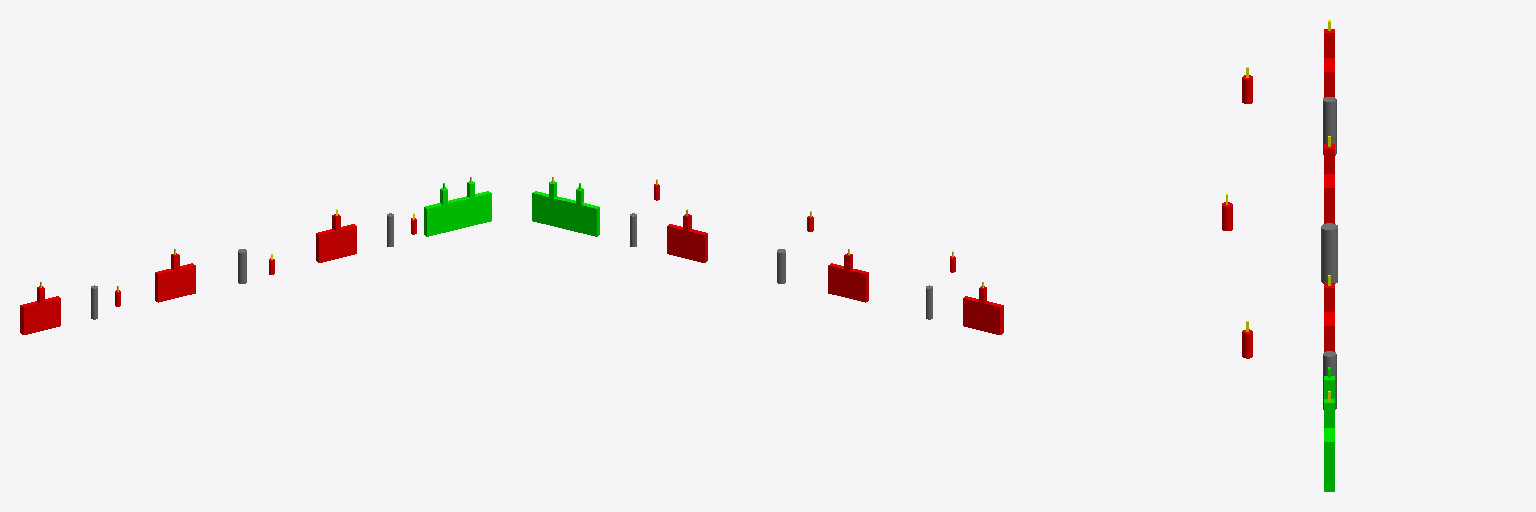
URDF robot description (lockbox_random0):
<?xml version="1.0"?>
<!-- created with Phobos 1.0.1 "Capricious Choutengan" -->
  <robot name="lockbox_random0">

    <link name="base_link">
    </link>

    <link name="goal">
      <visual name="visual_box_0_link_0.001">
        <origin xyz="0 0 0" rpy="0 0 0"/>
        <geometry>
          <box size="1.3976 0.1988 0.998"/>
        </geometry>
        <material name="green_translucent"/>
      </visual>
    </link>

    <link name="link_0_joint_0">
      <visual name="visual_box_0_link_0">
        <origin xyz="0 0 0" rpy="0 0 0"/>
        <geometry>
          <box size="1.399 0.199 0.999"/>
        </geometry>
        <material name="green"/>
      </visual>
      <collision name="collision_box_0_link_0">
        <origin xyz="0 0 0" rpy="0 0 0"/>
        <geometry>
          <box size="1.399 0.199 0.999"/>
        </geometry>
      </collision>
    </link>

    <link name="link_1_joint_0">
      <visual name="visual_mesh_3_link_1">
        <origin xyz="0 0 0" rpy="0 0 0"/>
        <geometry>
          <mesh filename="file://[local-path]/ba/puzzle-generator/puzzles/lockbox_random0/meshes/stl/slot_disc.stl" scale="1.0 1.0 1.0"/>
        </geometry>
        <material name="red"/>
      </visual>
      <collision concave="yes" name="collision_mesh_3_link_1">
        <origin xyz="0 0 0" rpy="0 0 0"/>
        <geometry>
          <mesh filename="file://[local-path]/ba/puzzle-generator/puzzles/lockbox_random0/meshes/stl/slot_disc.001.stl" scale="1.0 1.0 1.0"/>
        </geometry>
      </collision>
    </link>

    <link name="link_2_joint_0">
      <visual name="visual_box_7_link_2">
        <origin xyz="0 0 0" rpy="0 0 0"/>
        <geometry>
          <box size="1.399 0.199 0.999"/>
        </geometry>
        <material name="red"/>
      </visual>
      <collision name="collision_box_7_link_2">
        <origin xyz="0 0 0" rpy="0 0 0"/>
        <geometry>
          <box size="1.399 0.199 0.999"/>
        </geometry>
      </collision>
    </link>

    <link name="link_3_joint_0">
      <visual name="visual_mesh_10_link_3">
        <origin xyz="0 0 0" rpy="0 0 0"/>
        <geometry>
          <mesh filename="file://[local-path]/ba/puzzle-generator/puzzles/lockbox_random0/meshes/stl/slot_disc.002.stl" scale="1.0 1.0 1.0"/>
        </geometry>
        <material name="red"/>
      </visual>
      <collision concave="yes" name="collision_mesh_10_link_3">
        <origin xyz="0 0 0" rpy="0 0 0"/>
        <geometry>
          <mesh filename="file://[local-path]/ba/puzzle-generator/puzzles/lockbox_random0/meshes/stl/slot_disc.003.stl" scale="1.0 1.0 1.0"/>
        </geometry>
      </collision>
    </link>

    <link name="link_4_joint_0">
      <visual name="visual_box_14_link_4">
        <origin xyz="0 0 0" rpy="0 0 0"/>
        <geometry>
          <box size="1.399 0.199 0.999"/>
        </geometry>
        <material name="red"/>
      </visual>
      <collision name="collision_box_14_link_4">
        <origin xyz="0 0 0" rpy="0 0 0"/>
        <geometry>
          <box size="1.399 0.199 0.999"/>
        </geometry>
      </collision>
    </link>

    <link name="link_5_joint_0">
      <visual name="visual_mesh_17_link_5">
        <origin xyz="0 0 0" rpy="0 0 0"/>
        <geometry>
          <mesh filename="file://[local-path]/ba/puzzle-generator/puzzles/lockbox_random0/meshes/stl/slot_disc.004.stl" scale="1.0 1.0 1.0"/>
        </geometry>
        <material name="red"/>
      </visual>
      <collision concave="yes" name="collision_mesh_17_link_5">
        <origin xyz="0 0 0" rpy="0 0 0"/>
        <geometry>
          <mesh filename="file://[local-path]/ba/puzzle-generator/puzzles/lockbox_random0/meshes/stl/slot_disc.005.stl" scale="1.0 1.0 1.0"/>
        </geometry>
      </collision>
    </link>

    <link name="link_6_joint_0">
      <visual name="visual_box_21_link_6">
        <origin xyz="0 0 0" rpy="0 0 0"/>
        <geometry>
          <box size="1.399 0.199 0.999"/>
        </geometry>
        <material name="red"/>
      </visual>
      <collision name="collision_box_21_link_6">
        <origin xyz="0 0 0" rpy="0 0 0"/>
        <geometry>
          <box size="1.399 0.199 0.999"/>
        </geometry>
      </collision>
    </link>

    <link name="link_fixed_11_hinge">
      <visual name="visual_cylinder_fixed_11_hinge">
        <origin xyz="0 0 0" rpy="0 0 0"/>
        <geometry>
          <cylinder radius="0.15575" length="1.099"/>
        </geometry>
        <material name="gray"/>
      </visual>
    </link>

    <link name="link_fixed_12_handle_shaft">
      <visual name="visual_cylinder_fixed_12_handle_shaft">
        <origin xyz="0 0 0" rpy="0 0 0"/>
        <geometry>
          <cylinder radius="0.0995" length="0.499"/>
        </geometry>
        <material name="red"/>
      </visual>
      <collision name="collision_cylinder_fixed_12_handle_shaft">
        <origin xyz="0 0 0" rpy="0 0 0"/>
        <geometry>
          <cylinder radius="0.0995" length="0.499"/>
        </geometry>
      </collision>
    </link>

    <link name="link_fixed_13_handle_knob">
      <visual name="visual_box_fixed_13_handle_knob">
        <origin xyz="0 0 0" rpy="0 0 0"/>
        <geometry>
          <box size="0.049 0.049 0.199"/>
        </geometry>
        <material name="yellow"/>
      </visual>
      <collision name="collision_box_fixed_13_handle_knob">
        <origin xyz="0 0 0" rpy="0 0 0"/>
        <geometry>
          <box size="0.049 0.049 0.199"/>
        </geometry>
      </collision>
    </link>

    <link name="link_fixed_15_handle_shaft">
      <visual name="visual_box_fixed_15_handle_shaft">
        <origin xyz="0 0 0" rpy="0 0 0"/>
        <geometry>
          <box size="0.199 0.199 0.499"/>
        </geometry>
        <material name="red"/>
      </visual>
      <collision name="collision_box_fixed_15_handle_shaft">
        <origin xyz="0 0 0" rpy="0 0 0"/>
        <geometry>
          <box size="0.199 0.199 0.499"/>
        </geometry>
      </collision>
    </link>

    <link name="link_fixed_16_handle_knob">
      <visual name="visual_box_fixed_16_handle_knob">
        <origin xyz="0 0 0" rpy="0 0 0"/>
        <geometry>
          <box size="0.049 0.049 0.199"/>
        </geometry>
        <material name="yellow"/>
      </visual>
      <collision name="collision_box_fixed_16_handle_knob">
        <origin xyz="0 0 0" rpy="0 0 0"/>
        <geometry>
          <box size="0.049 0.049 0.199"/>
        </geometry>
      </collision>
    </link>

    <link name="link_fixed_18_hinge">
      <visual name="visual_cylinder_fixed_18_hinge">
        <origin xyz="0 0 0" rpy="0 0 0"/>
        <geometry>
          <cylinder radius="0.1245" length="1.099"/>
        </geometry>
        <material name="gray"/>
      </visual>
    </link>

    <link name="link_fixed_19_handle_shaft">
      <visual name="visual_cylinder_fixed_19_handle_shaft">
        <origin xyz="0 0 0" rpy="0 0 0"/>
        <geometry>
          <cylinder radius="0.0995" length="0.499"/>
        </geometry>
        <material name="red"/>
      </visual>
      <collision name="collision_cylinder_fixed_19_handle_shaft">
        <origin xyz="0 0 0" rpy="0 0 0"/>
        <geometry>
          <cylinder radius="0.0995" length="0.499"/>
        </geometry>
      </collision>
    </link>

    <link name="link_fixed_1_handle_shaft">
      <visual name="visual_box_fixed_1_handle_shaft">
        <origin xyz="0 0 0" rpy="0 0 0"/>
        <geometry>
          <box size="0.199 0.199 0.499"/>
        </geometry>
        <material name="green"/>
      </visual>
      <collision name="collision_box_fixed_1_handle_shaft">
        <origin xyz="0 0 0" rpy="0 0 0"/>
        <geometry>
          <box size="0.199 0.199 0.499"/>
        </geometry>
      </collision>
    </link>

    <link name="link_fixed_1_handle_shaft.001">
      <visual name="visual_box_fixed_1_handle_shaft.001">
        <origin xyz="0 0 0" rpy="0 0 0"/>
        <geometry>
          <box size="0.1988 0.1988 0.4985"/>
        </geometry>
        <material name="green_translucent"/>
      </visual>
    </link>

    <link name="link_fixed_20_handle_knob">
      <visual name="visual_box_fixed_20_handle_knob">
        <origin xyz="0 0 0" rpy="0 0 0"/>
        <geometry>
          <box size="0.049 0.049 0.199"/>
        </geometry>
        <material name="yellow"/>
      </visual>
      <collision name="collision_box_fixed_20_handle_knob">
        <origin xyz="0 0 0" rpy="0 0 0"/>
        <geometry>
          <box size="0.049 0.049 0.199"/>
        </geometry>
      </collision>
    </link>

    <link name="link_fixed_22_handle_shaft">
      <visual name="visual_box_fixed_22_handle_shaft">
        <origin xyz="0 0 0" rpy="0 0 0"/>
        <geometry>
          <box size="0.199 0.199 0.499"/>
        </geometry>
        <material name="red"/>
      </visual>
      <collision name="collision_box_fixed_22_handle_shaft">
        <origin xyz="0 0 0" rpy="0 0 0"/>
        <geometry>
          <box size="0.199 0.199 0.499"/>
        </geometry>
      </collision>
    </link>

    <link name="link_fixed_23_handle_knob">
      <visual name="visual_box_fixed_23_handle_knob">
        <origin xyz="0 0 0" rpy="0 0 0"/>
        <geometry>
          <box size="0.049 0.049 0.199"/>
        </geometry>
        <material name="yellow"/>
      </visual>
      <collision name="collision_box_fixed_23_handle_knob">
        <origin xyz="0 0 0" rpy="0 0 0"/>
        <geometry>
          <box size="0.049 0.049 0.199"/>
        </geometry>
      </collision>
    </link>

    <link name="link_fixed_2_handle_knob">
      <visual name="visual_box_fixed_2_handle_knob">
        <origin xyz="0 0 0" rpy="0 0 0"/>
        <geometry>
          <box size="0.049 0.049 0.199"/>
        </geometry>
        <material name="yellow"/>
      </visual>
      <collision name="collision_box_fixed_2_handle_knob">
        <origin xyz="0 0 0" rpy="0 0 0"/>
        <geometry>
          <box size="0.049 0.049 0.199"/>
        </geometry>
      </collision>
    </link>

    <link name="link_fixed_2_handle_knob.001">
      <visual name="visual_box_fixed_2_handle_knob.001">
        <origin xyz="0 0 0" rpy="0 0 0"/>
        <geometry>
          <box size="0.04895 0.04895 0.1988"/>
        </geometry>
        <material name="green_translucent"/>
      </visual>
    </link>

    <link name="link_fixed_4_hinge">
      <visual name="visual_cylinder_fixed_4_hinge">
        <origin xyz="0 0 0" rpy="0 0 0"/>
        <geometry>
          <cylinder radius="0.1245" length="1.099"/>
        </geometry>
        <material name="gray"/>
      </visual>
    </link>

    <link name="link_fixed_5_handle_shaft">
      <visual name="visual_cylinder_fixed_5_handle_shaft">
        <origin xyz="0 0 0" rpy="0 0 0"/>
        <geometry>
          <cylinder radius="0.0995" length="0.499"/>
        </geometry>
        <material name="red"/>
      </visual>
      <collision name="collision_cylinder_fixed_5_handle_shaft">
        <origin xyz="0 0 0" rpy="0 0 0"/>
        <geometry>
          <cylinder radius="0.0995" length="0.499"/>
        </geometry>
      </collision>
    </link>

    <link name="link_fixed_6_handle_knob">
      <visual name="visual_box_fixed_6_handle_knob">
        <origin xyz="0 0 0" rpy="0 0 0"/>
        <geometry>
          <box size="0.049 0.049 0.199"/>
        </geometry>
        <material name="yellow"/>
      </visual>
      <collision name="collision_box_fixed_6_handle_knob">
        <origin xyz="0 0 0" rpy="0 0 0"/>
        <geometry>
          <box size="0.049 0.049 0.199"/>
        </geometry>
      </collision>
    </link>

    <link name="link_fixed_8_handle_shaft">
      <visual name="visual_box_fixed_8_handle_shaft">
        <origin xyz="0 0 0" rpy="0 0 0"/>
        <geometry>
          <box size="0.199 0.199 0.499"/>
        </geometry>
        <material name="red"/>
      </visual>
      <collision name="collision_box_fixed_8_handle_shaft">
        <origin xyz="0 0 0" rpy="0 0 0"/>
        <geometry>
          <box size="0.199 0.199 0.499"/>
        </geometry>
      </collision>
    </link>

    <link name="link_fixed_9_handle_knob">
      <visual name="visual_box_fixed_9_handle_knob">
        <origin xyz="0 0 0" rpy="0 0 0"/>
        <geometry>
          <box size="0.049 0.049 0.199"/>
        </geometry>
        <material name="yellow"/>
      </visual>
      <collision name="collision_box_fixed_9_handle_knob">
        <origin xyz="0 0 0" rpy="0 0 0"/>
        <geometry>
          <box size="0.049 0.049 0.199"/>
        </geometry>
      </collision>
    </link>

    <joint name="goal" type="fixed">
      <origin xyz="-1.0 0 0.5" rpy="0 0 3.14159"/>
      <parent link="base_link"/>
      <child link="goal"/>
      <limit effort="0" velocity="0"/>
    </joint>

    <joint name="link_0_joint_0" type="prismatic">
      <origin xyz="0 0 0.5" rpy="0 0 3.14159"/>
      <parent link="base_link"/>
      <child link="link_0_joint_0"/>
      <axis xyz="1.0 0 0"/>
      <limit lower="0" upper="1.0" effort="0" velocity="0"/>
    </joint>

    <joint name="link_1_joint_0" type="revolute">
      <origin xyz="-3.0 0 0.5" rpy="0 0 3.14159"/>
      <parent link="base_link"/>
      <child link="link_1_joint_0"/>
      <axis xyz="0 0 1.0"/>
      <limit lower="-3.14159" upper="3.14159" effort="0" velocity="0"/>
    </joint>

    <joint name="link_2_joint_0" type="prismatic">
      <origin xyz="-5.0 0 0.5" rpy="0 0 3.14159"/>
      <parent link="base_link"/>
      <child link="link_2_joint_0"/>
      <axis xyz="1.0 0 0"/>
      <limit lower="0" upper="1.0" effort="0" velocity="0"/>
    </joint>

    <joint name="link_3_joint_0" type="revolute">
      <origin xyz="-8.5 0 0.5" rpy="0 0 3.14159"/>
      <parent link="base_link"/>
      <child link="link_3_joint_0"/>
      <axis xyz="0 0 1.0"/>
      <limit lower="-3.14159" upper="3.14159" effort="0" velocity="0"/>
    </joint>

    <joint name="link_4_joint_0" type="prismatic">
      <origin xyz="-11.0 0 0.5" rpy="0 0 3.14159"/>
      <parent link="base_link"/>
      <child link="link_4_joint_0"/>
      <axis xyz="1.0 0 0"/>
      <limit lower="0" upper="1.0" effort="0" velocity="0"/>
    </joint>

    <joint name="link_5_joint_0" type="revolute">
      <origin xyz="-14.0 0 0.5" rpy="0 0 3.14159"/>
      <parent link="base_link"/>
      <child link="link_5_joint_0"/>
      <axis xyz="0 0 1.0"/>
      <limit lower="-3.14159" upper="3.14159" effort="0" velocity="0"/>
    </joint>

    <joint name="link_6_joint_0" type="prismatic">
      <origin xyz="-16.0 0 0.5" rpy="0 0 3.14159"/>
      <parent link="base_link"/>
      <child link="link_6_joint_0"/>
      <axis xyz="1.0 0 0"/>
      <limit lower="0" upper="1.0" effort="0" velocity="0"/>
    </joint>

    <joint name="link_fixed_11_hinge" type="fixed">
      <origin xyz="0 0 0" rpy="0 0 0"/>
      <parent link="link_3_joint_0"/>
      <child link="link_fixed_11_hinge"/>
    </joint>

    <joint name="link_fixed_12_handle_shaft" type="fixed">
      <origin xyz="0 1.875 0.75" rpy="0 0 0"/>
      <parent link="link_3_joint_0"/>
      <child link="link_fixed_12_handle_shaft"/>
    </joint>

    <joint name="link_fixed_13_handle_knob" type="fixed">
      <origin xyz="0 0 0.35" rpy="0 0 0"/>
      <parent link="link_fixed_12_handle_shaft"/>
      <child link="link_fixed_13_handle_knob"/>
    </joint>

    <joint name="link_fixed_15_handle_shaft" type="fixed">
      <origin xyz="0 0 0.75" rpy="0 0 0"/>
      <parent link="link_4_joint_0"/>
      <child link="link_fixed_15_handle_shaft"/>
    </joint>

    <joint name="link_fixed_16_handle_knob" type="fixed">
      <origin xyz="0 0 0.35" rpy="0 0 0"/>
      <parent link="link_fixed_15_handle_shaft"/>
      <child link="link_fixed_16_handle_knob"/>
    </joint>

    <joint name="link_fixed_18_hinge" type="fixed">
      <origin xyz="0 0 0" rpy="0 0 0"/>
      <parent link="link_5_joint_0"/>
      <child link="link_fixed_18_hinge"/>
    </joint>

    <joint name="link_fixed_19_handle_shaft" type="fixed">
      <origin xyz="0 1.5 0.75" rpy="0 0 0"/>
      <parent link="link_5_joint_0"/>
      <child link="link_fixed_19_handle_shaft"/>
    </joint>

    <joint name="link_fixed_1_handle_shaft" type="fixed">
      <origin xyz="0 0 0.75" rpy="0 0 0"/>
      <parent link="link_0_joint_0"/>
      <child link="link_fixed_1_handle_shaft"/>
    </joint>

    <joint name="link_fixed_1_handle_shaft.001" type="fixed">
      <origin xyz="0 0 0.74925" rpy="0 0 0"/>
      <parent link="goal"/>
      <child link="link_fixed_1_handle_shaft.001"/>
    </joint>

    <joint name="link_fixed_20_handle_knob" type="fixed">
      <origin xyz="0 0 0.35" rpy="0 0 0"/>
      <parent link="link_fixed_19_handle_shaft"/>
      <child link="link_fixed_20_handle_knob"/>
    </joint>

    <joint name="link_fixed_22_handle_shaft" type="fixed">
      <origin xyz="0 0 0.75" rpy="0 0 0"/>
      <parent link="link_6_joint_0"/>
      <child link="link_fixed_22_handle_shaft"/>
    </joint>

    <joint name="link_fixed_23_handle_knob" type="fixed">
      <origin xyz="0 0 0.35" rpy="0 0 0"/>
      <parent link="link_fixed_22_handle_shaft"/>
      <child link="link_fixed_23_handle_knob"/>
    </joint>

    <joint name="link_fixed_2_handle_knob" type="fixed">
      <origin xyz="0 0 0.35" rpy="0 0 0"/>
      <parent link="link_fixed_1_handle_shaft"/>
      <child link="link_fixed_2_handle_knob"/>
    </joint>

    <joint name="link_fixed_2_handle_knob.001" type="fixed">
      <origin xyz="0 0 0.34965" rpy="0 0 0"/>
      <parent link="link_fixed_1_handle_shaft.001"/>
      <child link="link_fixed_2_handle_knob.001"/>
    </joint>

    <joint name="link_fixed_4_hinge" type="fixed">
      <origin xyz="0 0 0" rpy="0 0 0"/>
      <parent link="link_1_joint_0"/>
      <child link="link_fixed_4_hinge"/>
    </joint>

    <joint name="link_fixed_5_handle_shaft" type="fixed">
      <origin xyz="0 1.5 0.75" rpy="0 0 0"/>
      <parent link="link_1_joint_0"/>
      <child link="link_fixed_5_handle_shaft"/>
    </joint>

    <joint name="link_fixed_6_handle_knob" type="fixed">
      <origin xyz="0 0 0.35" rpy="0 0 0"/>
      <parent link="link_fixed_5_handle_shaft"/>
      <child link="link_fixed_6_handle_knob"/>
    </joint>

    <joint name="link_fixed_8_handle_shaft" type="fixed">
      <origin xyz="0 0 0.75" rpy="0 0 0"/>
      <parent link="link_2_joint_0"/>
      <child link="link_fixed_8_handle_shaft"/>
    </joint>

    <joint name="link_fixed_9_handle_knob" type="fixed">
      <origin xyz="0 0 0.35" rpy="0 0 0"/>
      <parent link="link_fixed_8_handle_shaft"/>
      <child link="link_fixed_9_handle_knob"/>
    </joint>

    <material name="gray">
      <color rgba="0.5 0.5 0.5 1.0"/>
    </material>

    <material name="green">
      <color rgba="0 1.0 0 1.0"/>
    </material>

    <material name="green_translucent">
      <color rgba="0 1.0 0 0.25"/>
    </material>

    <material name="red">
      <color rgba="1.0 0 0 1.0"/>
    </material>

    <material name="yellow">
      <color rgba="1.0 1.0 0 1.0"/>
    </material>

  </robot>

--- What the picture shows (computed from the rendered views, not written in the file) ---
The picture shows the robot from 3 angles, left to right: view 1: azimuth 30°, elevation 25°; view 2: azimuth 150°, elevation 25°; view 3: azimuth 270°, elevation 25°; orthographic projection.
Robot: lockbox_random0 — 28 links, 27 joints (3 revolute, 4 prismatic, 20 fixed); root link base_link; default pose: all joints at 0.
Visible links, largest first — view 1: link_6_joint_0, link_2_joint_0, link_4_joint_0, link_0_joint_0, goal; view 2: link_6_joint_0, link_2_joint_0, link_4_joint_0, link_0_joint_0, goal; view 3: link_fixed_11_hinge, link_0_joint_0, link_fixed_18_hinge, link_4_joint_0.
Link boxes in pixels (x1,y1,x2,y2): link_6_joint_0: (20,296,60,334); link_2_joint_0: (316,224,356,262); link_4_joint_0: (155,263,195,302); link_0_joint_0: (451,191,491,229); goal: (424,200,453,236); link_6_joint_0: (963,296,1003,334); link_2_joint_0: (667,224,707,262); link_4_joint_0: (828,263,868,302); link_0_joint_0: (532,191,572,229); goal: (570,200,599,236); link_fixed_11_hinge: (1321,223,1337,283); link_0_joint_0: (1324,428,1334,491); link_fixed_18_hinge: (1323,97,1336,155); link_4_joint_0: (1324,174,1334,223).
Bounding box of the posed robot: 17.4 × 2.13 × 1.75 m (x, y, z).
Geometry: only primitive shapes (box / cylinder / sphere) drawn; not drawn: 3 mesh visuals (reference in a form the renderer does not follow).
